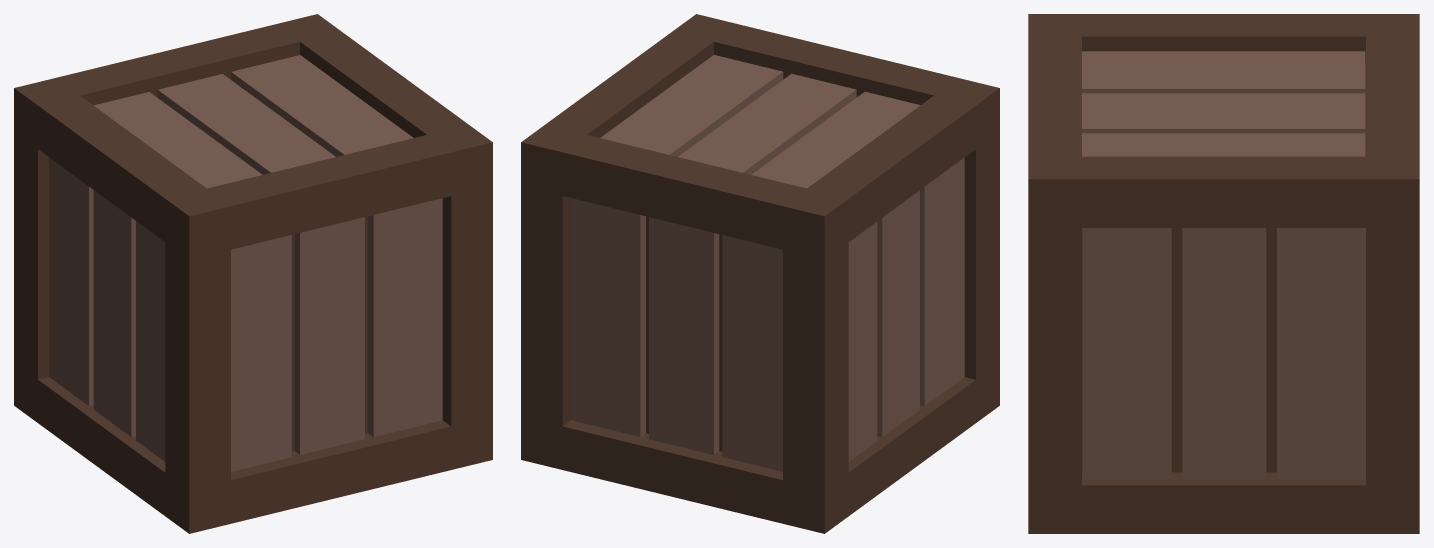
File: Crate.fbx
3 views of the same model, side by side, from view 1: azimuth 30°, elevation 25°; view 2: azimuth 150°, elevation 25°; view 3: azimuth 270°, elevation 25° (orthographic). The views are drawn at different scales.
Parts seen in each view (by area): view 1: Crate 1; view 2: Crate 1; view 3: Crate 1.
Part boxes in pixels (box(x1,y1,x2,y2)): Crate 1: box(14, 14, 492, 533); Crate 1: box(521, 14, 999, 533); Crate 1: box(1028, 14, 1419, 533).
Bounding box in the file's own units: 200 × 200 × 200.
